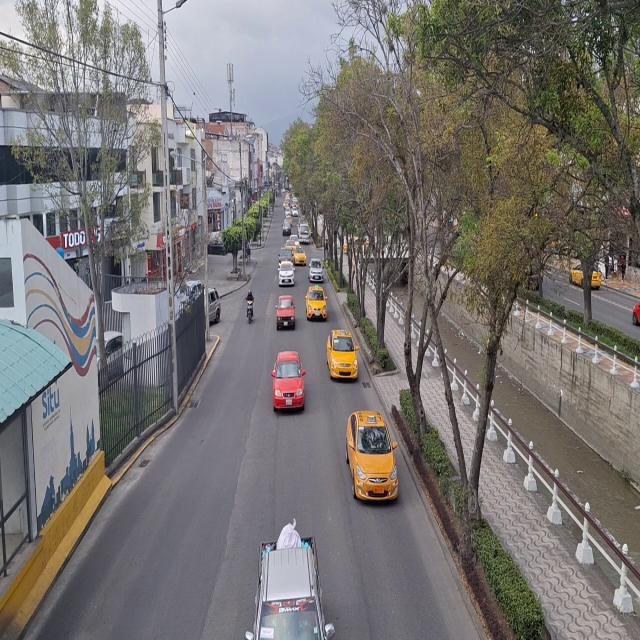CMT: (254, 535, 323, 639), (278, 296, 295, 329)
MOTORCYCLE: (246, 301, 254, 324)
SED: (347, 416, 396, 503), (274, 351, 304, 412), (329, 332, 358, 380)
